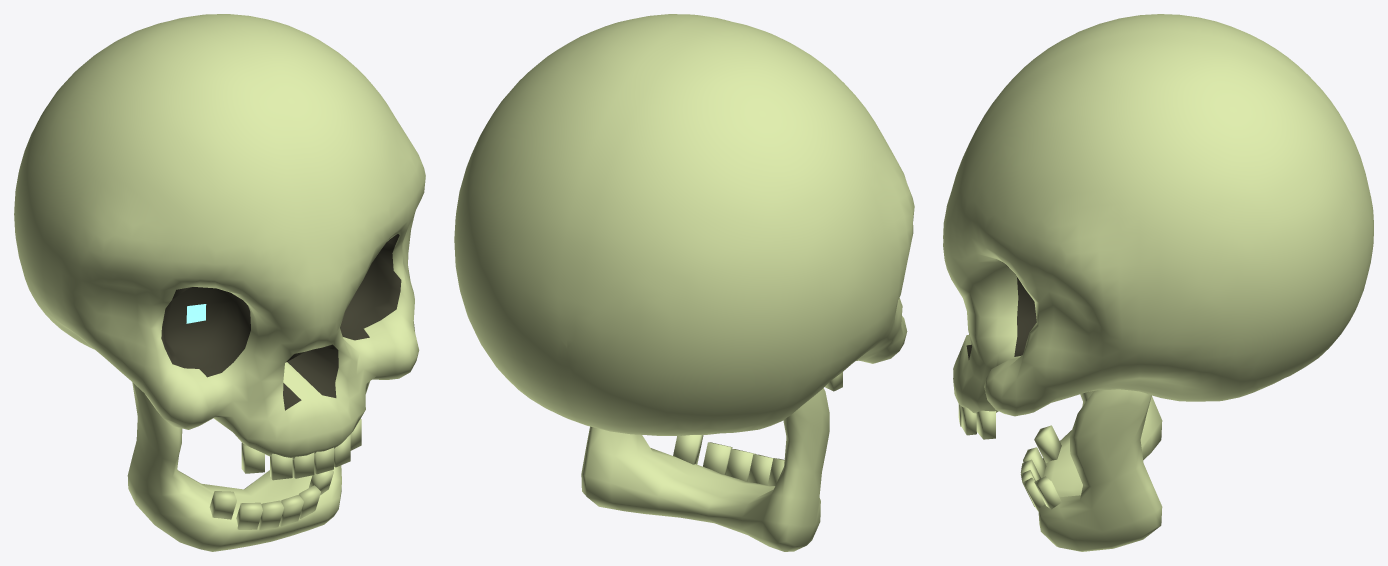
File: Zombie Soul.fbx
The picture shows the model from 3 angles, left to right: view 1: azimuth 30°, elevation 25°; view 2: azimuth 150°, elevation 25°; view 3: azimuth 270°, elevation 25°; orthographic projection. The views are drawn at different scales.
Parts seen in each view (by area): view 1: Craneo.001; view 2: Craneo.001; view 3: Craneo.001.
Part boxes in pixels (left/top/right/bottom): Craneo.001: left=14, top=14, right=425, bottom=551; Craneo.001: left=454, top=14, right=914, bottom=551; Craneo.001: left=943, top=14, right=1373, bottom=551.
Size of the model in its own units: 24.7 by 31.5 by 25.32.
